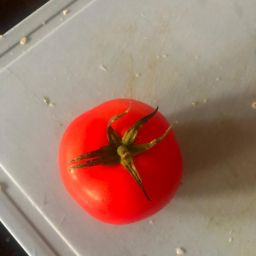Tomato: (56, 92, 191, 224)
